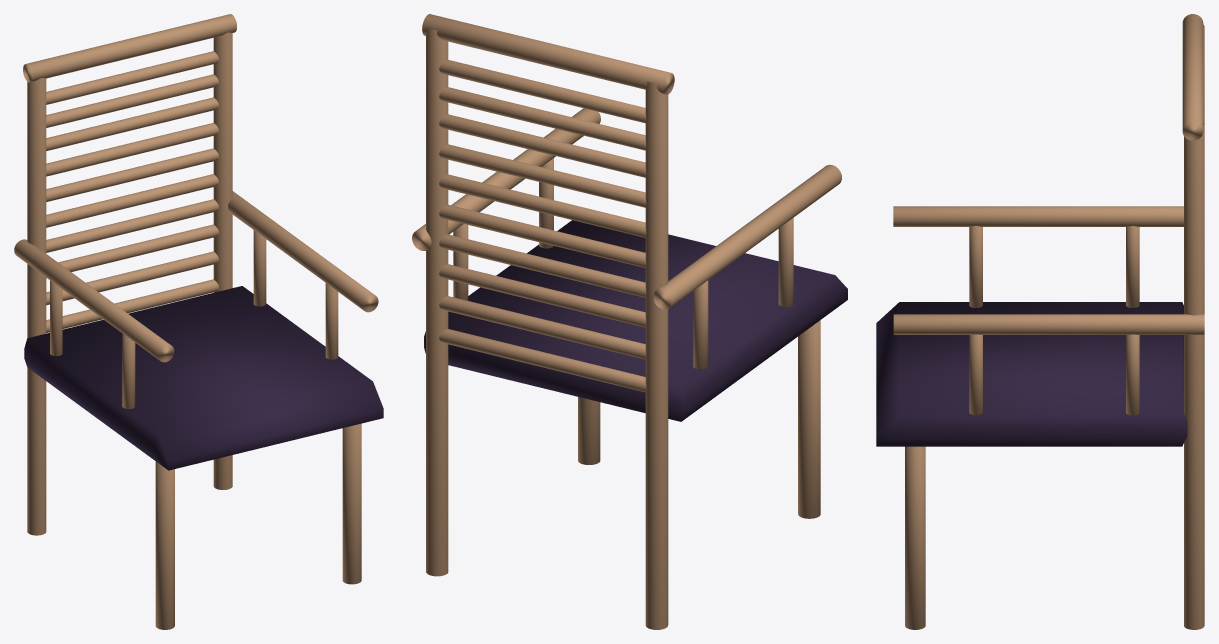
The picture shows the model from 3 angles, left to right: view 1: azimuth 30°, elevation 25°; view 2: azimuth 150°, elevation 25°; view 3: azimuth 270°, elevation 25°; orthographic projection. The views are drawn at different scales.
Visible parts, largest first — view 1: Cube, Cylinder.004, Cylinder.002, Cylinder.006, Cylinder.016, Cylinder.015, Cylinder, Cylinder.001, Cylinder.008, Cylinder.005, Cylinder.010, Cylinder.011 (+10 smaller); view 2: Cube, Cylinder.004, Cylinder.002, Cylinder.006, Cylinder.016, Cylinder, Cylinder.005, Cylinder.007, Cylinder.003, Cylinder.013, Cylinder.008, Cylinder.014 (+10 smaller); view 3: Cube, Cylinder.002, Cylinder.015, Cylinder.016, Cylinder.001, Cylinder.006, Cylinder.017, Cylinder.018, Cylinder.019, Cylinder.020.
Part boxes in pixels (x1,y1,x2,y2): Cube: (24,286,383,470); Cylinder.004: (27,78,46,535); Cylinder.002: (213,32,232,489); Cylinder.006: (23,14,236,82); Cylinder.016: (14,239,174,362); Cylinder.015: (228,191,378,312); Cylinder: (155,461,174,629); Cylinder.001: (342,423,361,584); Cylinder.008: (46,122,218,176); Cylinder.005: (46,51,218,104); Cylinder.010: (46,174,218,227); Cylinder.011: (46,199,218,252); Cube: (424,220,847,421); Cylinder.004: (645,81,668,629); Cylinder.002: (426,28,448,576); Cylinder.006: (422,14,674,94); Cylinder.016: (654,164,841,309); Cylinder: (798,320,820,518); Cylinder.005: (439,59,646,123); Cylinder.007: (439,87,646,150); Cylinder.003: (439,114,646,177); Cylinder.013: (439,296,646,359); Cylinder.008: (439,144,646,207); Cylinder.014: (439,328,646,392); Cube: (876,302,1187,446); Cylinder.002: (1184,123,1204,629); Cylinder.015: (893,314,1204,334); Cylinder.016: (893,206,1183,226); Cylinder.001: (905,446,925,629); Cylinder.006: (1182,14,1203,140); Cylinder.017: (1126,226,1139,307); Cylinder.018: (969,226,982,307); Cylinder.019: (1126,334,1139,415); Cylinder.020: (969,334,982,415).
Bounding box in the file's own units: 0.4 × 0.8118 × 0.4753.
